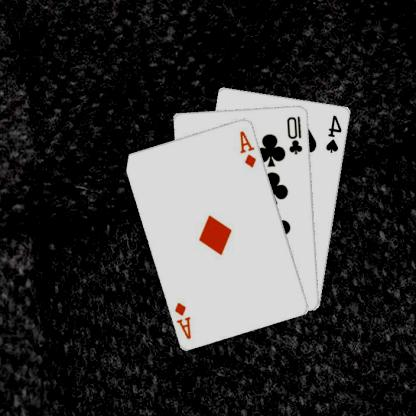10C: (287, 113, 306, 155)
4S: (325, 112, 345, 154)
AD: (239, 128, 259, 168), (174, 300, 194, 340)
